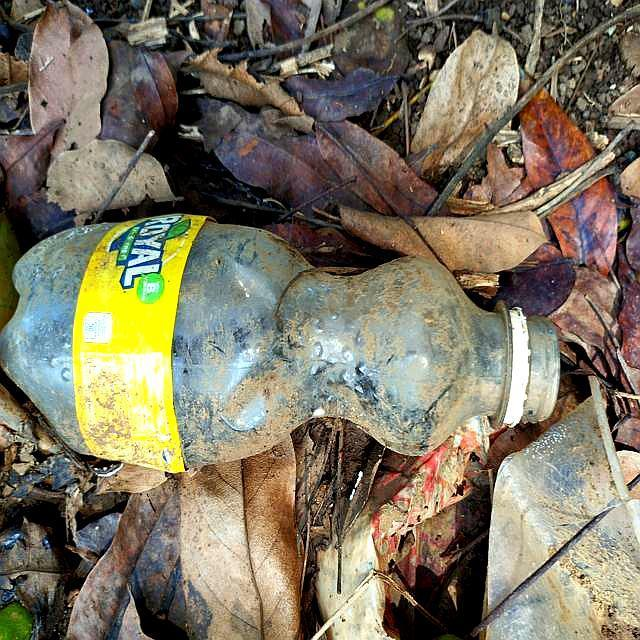Non-biodegradable: (3, 215, 565, 463)
